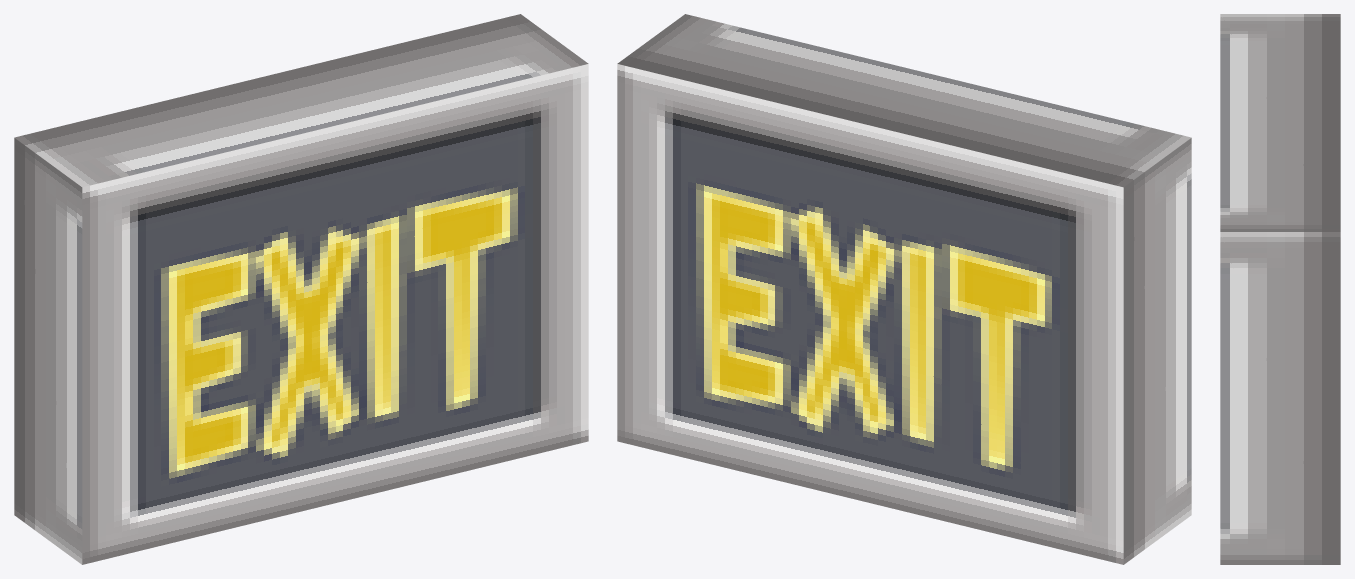
File: exit.glb
The picture shows the model from 3 angles, left to right: view 1: azimuth 30°, elevation 25°; view 2: azimuth 150°, elevation 25°; view 3: azimuth 270°, elevation 25°; orthographic projection. The views are drawn at different scales.
Visible parts, largest first — view 1: exit; view 2: exit; view 3: exit.
Boxes of the visible parts, bbox=[...] form: exit: bbox=[14, 14, 588, 564]; exit: bbox=[617, 14, 1191, 564]; exit: bbox=[1220, 14, 1340, 564].
Size of the model in its own units: 81.66 by 58.17 by 19.02.
1 material, 1 textured.
